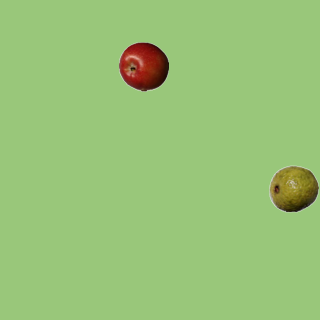Apple Braeburn: (118, 41, 168, 91)
Guava: (268, 163, 318, 213)
